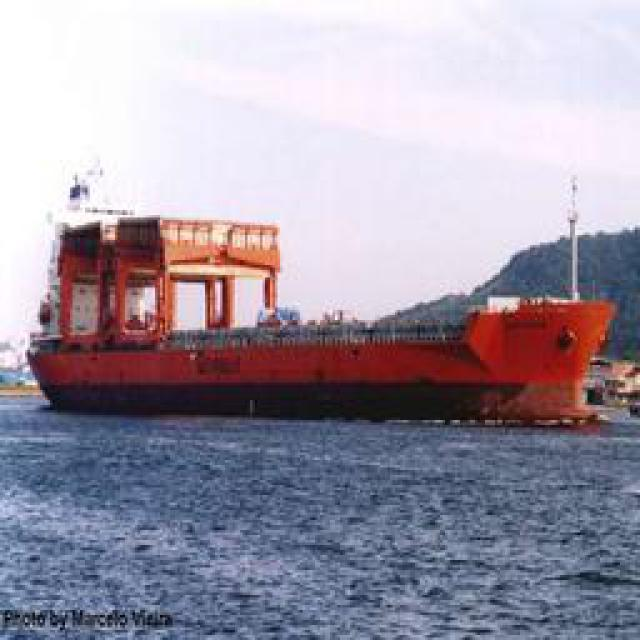Ship: (23, 272, 618, 422)
